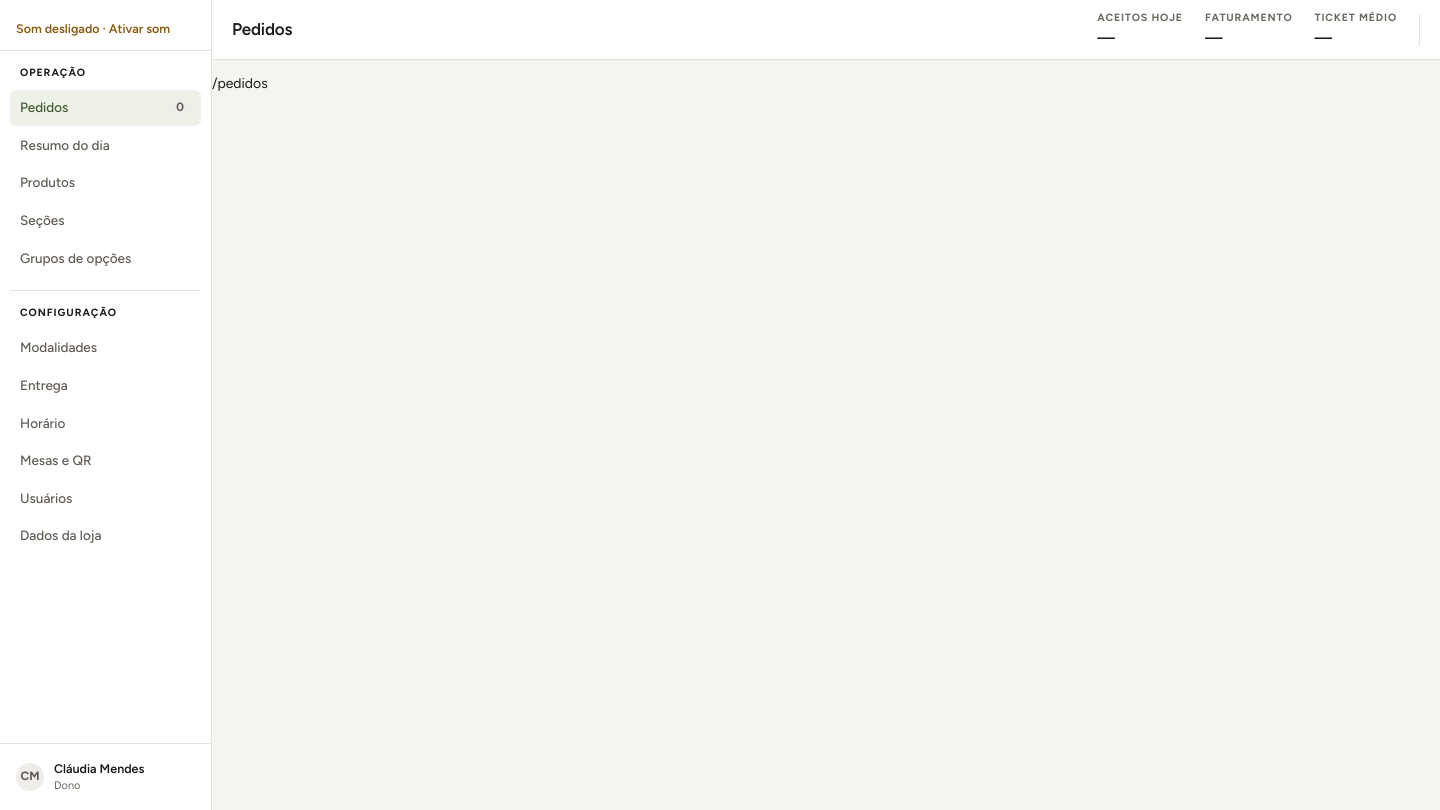
Test: trocar senha pelo menu da conta › leva o e-mail da conta num campo escondido, para o gerenciador de senhas
Click the button with aria-label "Menu da conta" at x=106, y=777, box [10, 754, 201, 800]
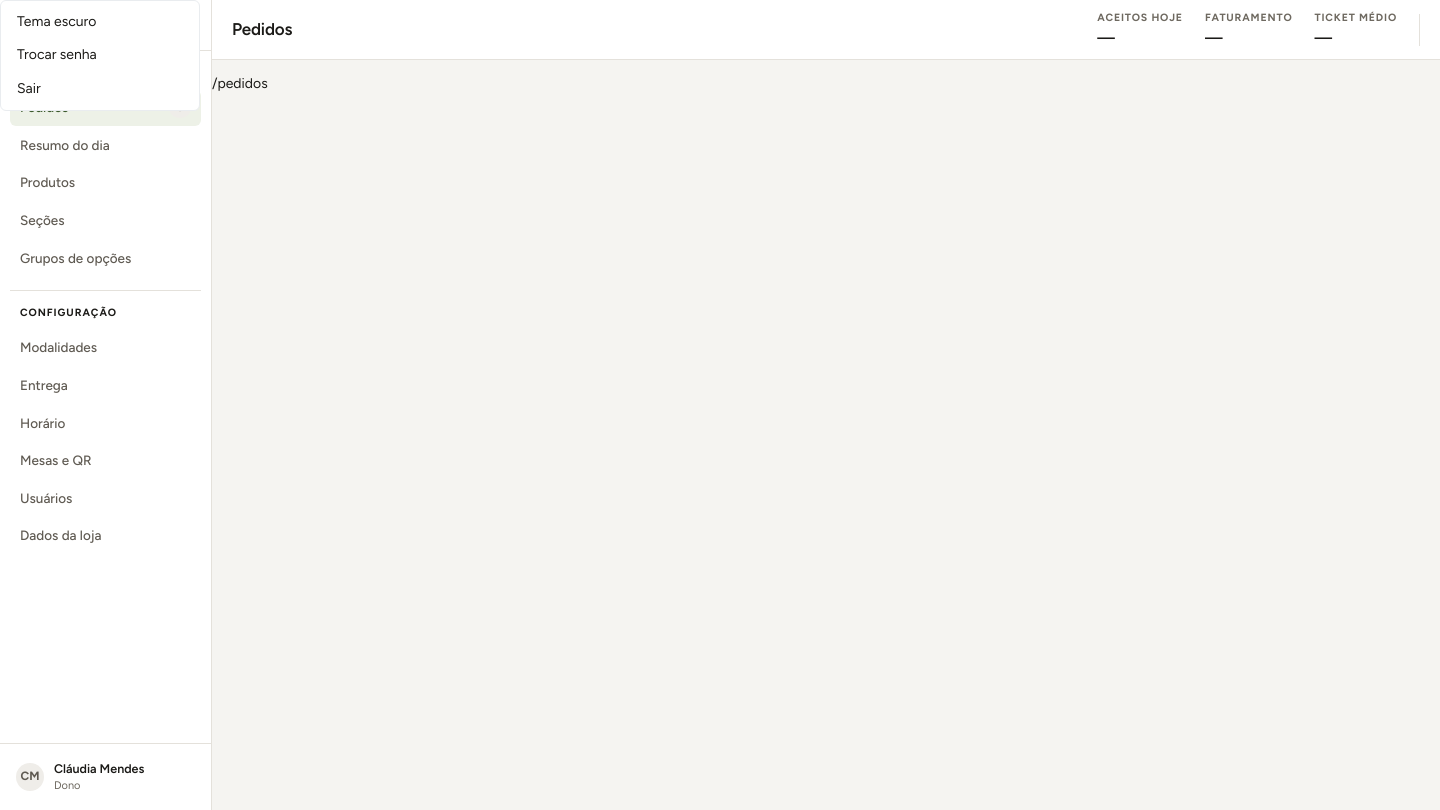
Click the menu item "Trocar senha" at x=100, y=55, box [5, 39, 195, 72]
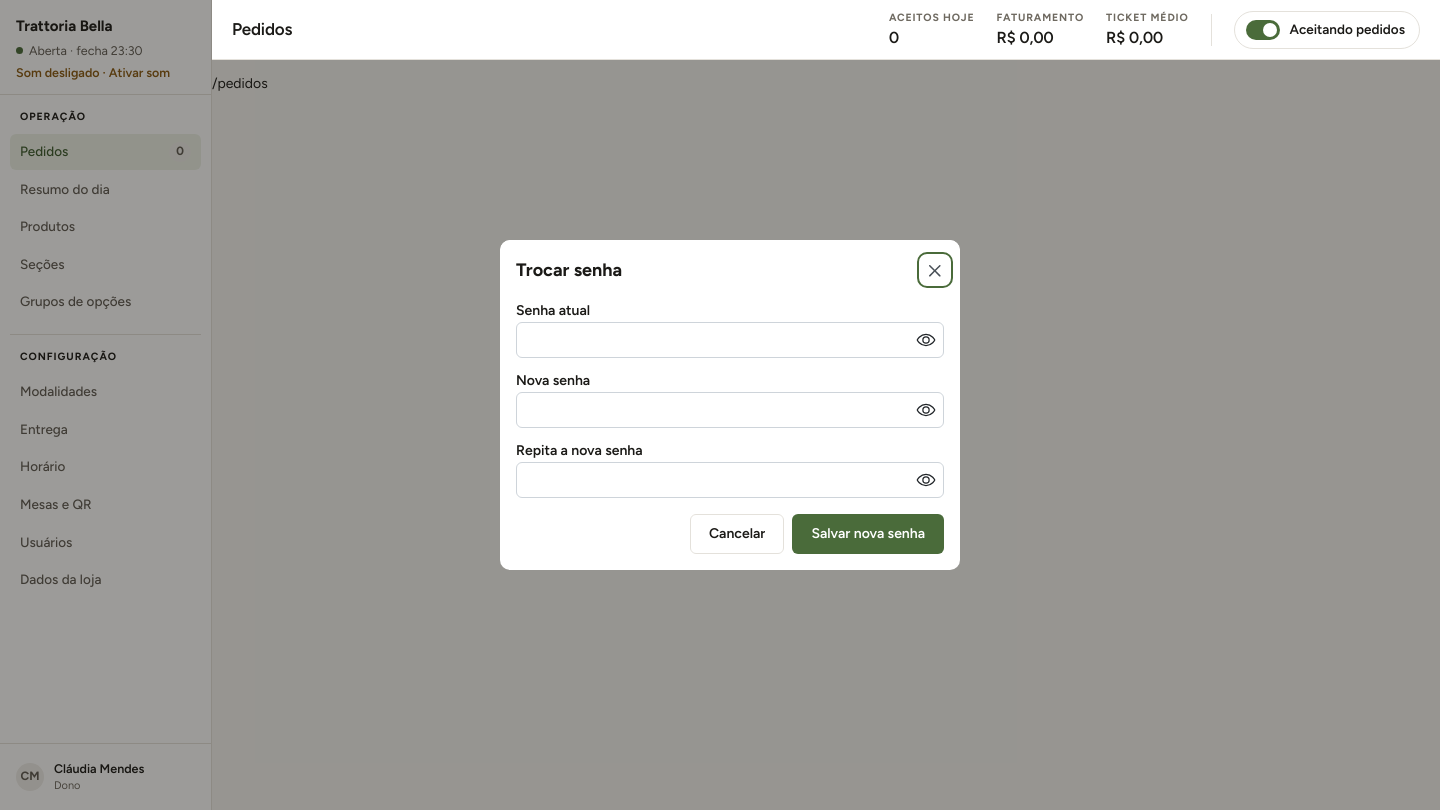
Expected: the form holds "gerencia@trattoriabella.com.br", [516, 300, 944, 554]
